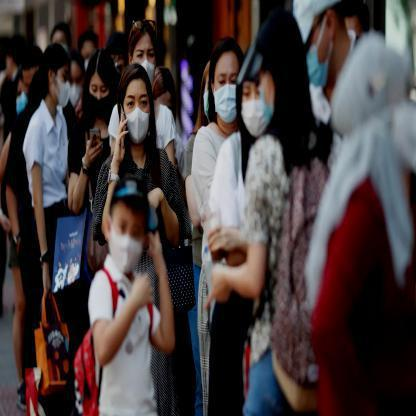with_mask: (290, 1, 355, 93), (258, 10, 300, 129), (103, 178, 148, 274), (114, 63, 154, 151), (212, 35, 244, 121), (82, 50, 118, 122), (126, 17, 161, 91), (36, 44, 73, 113), (240, 49, 267, 138), (196, 56, 214, 126), (65, 54, 86, 111), (78, 31, 100, 73), (13, 66, 31, 117)
